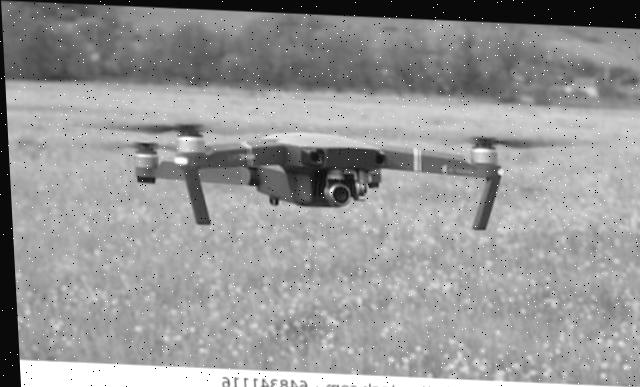drone: (28, 65, 621, 255)
